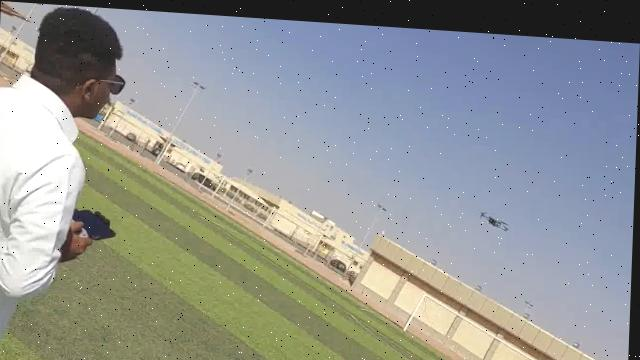drone: (470, 191, 528, 229)
